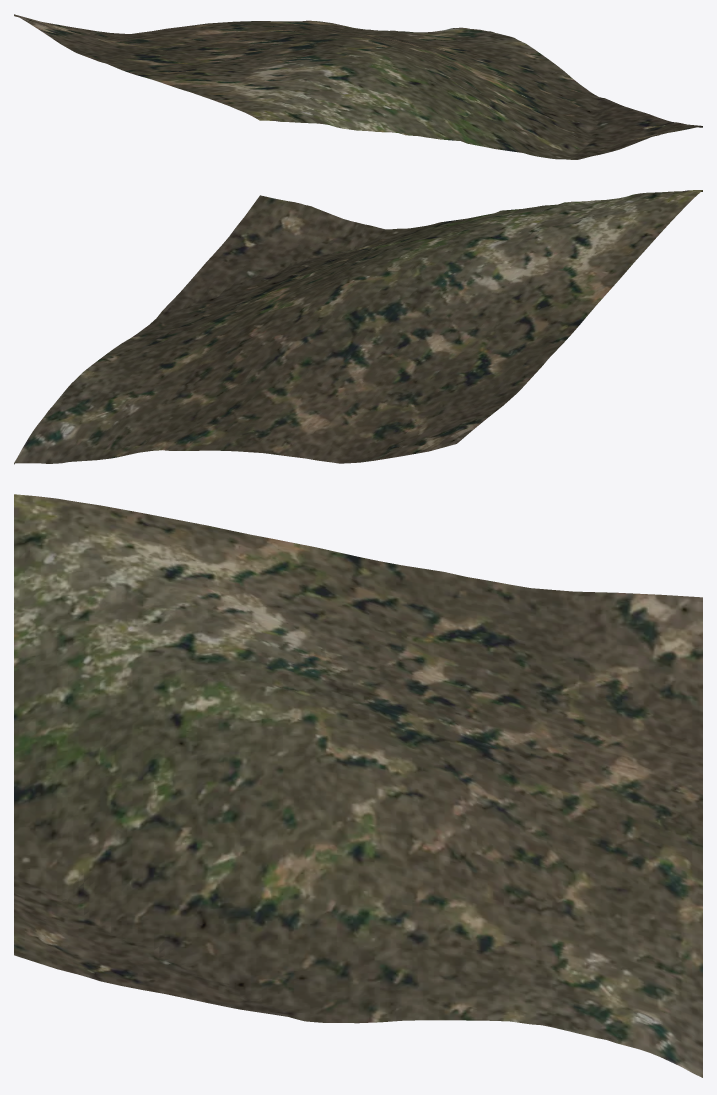
The picture shows the model from 3 angles, top to bottom: view 1: azimuth 30°, elevation 25°; view 2: azimuth 150°, elevation 25°; view 3: azimuth 270°, elevation 25°; orthographic projection. The views are drawn at different scales.
Bounding box in the file's own units: 250 × 109 × 241.
Materials: 1 (1 with a texture image).
